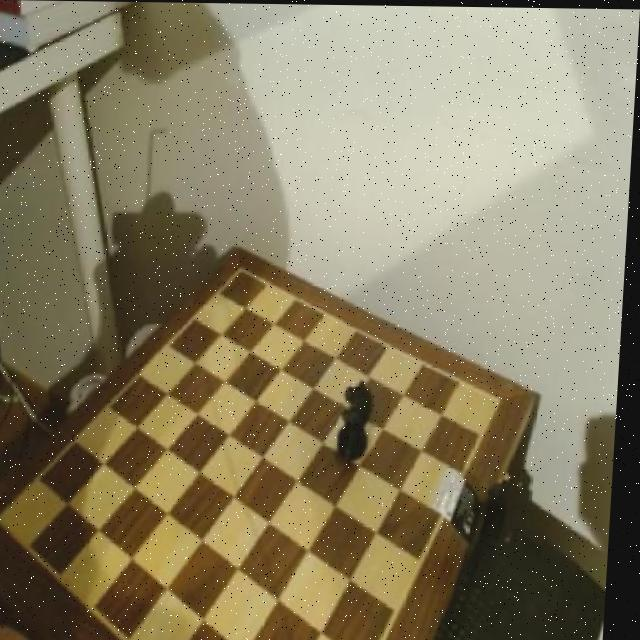black-king: (340, 373, 382, 464)
